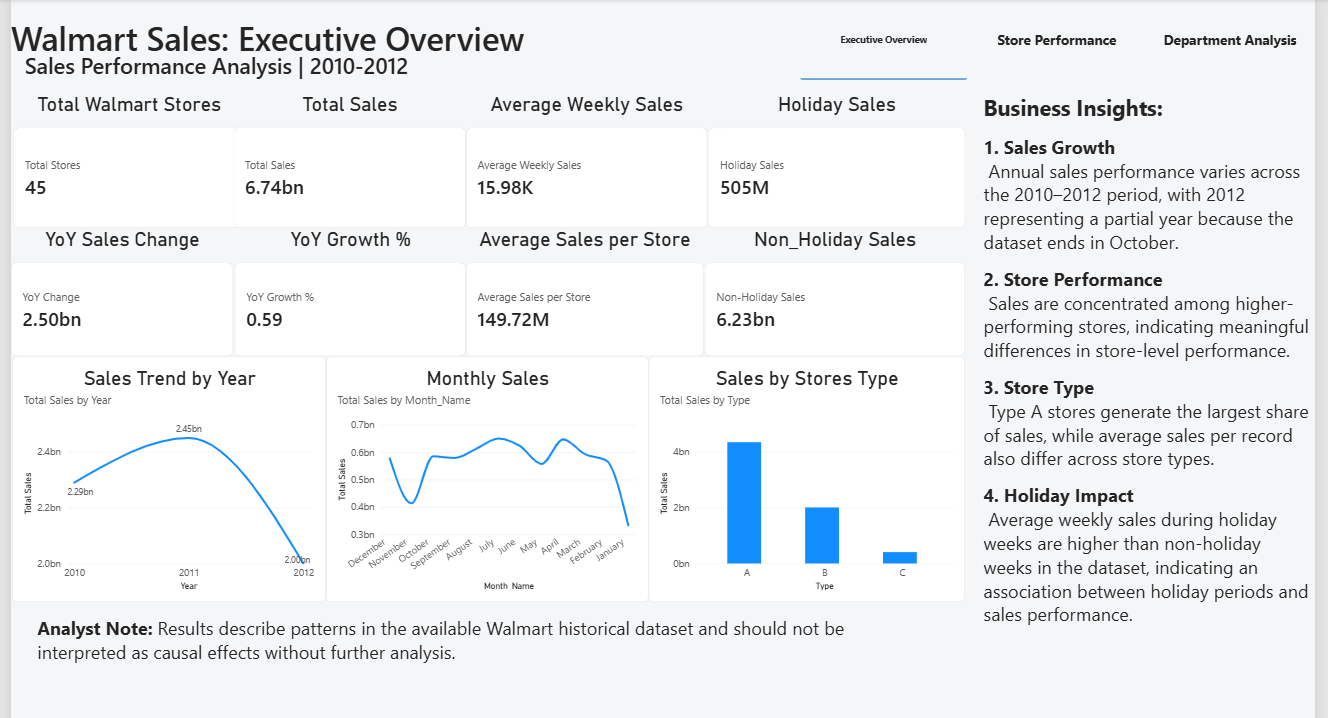

What the dashboard file says about the page in this screenshot:
{"tool":"powerbi","page":{"name":"Executive Overview","canvas":[1920,1080],"ordinal":0},"visuals":[{"type":"lineChart","title":"Sales Trend by Year","fields":{"Category":["train.Year"],"Y":["train.Total Sales"]},"box":[1.9,527.1,461.9,361.4],"z":0},{"type":"lineChart","title":"Monthly Sales","fields":{"Category":["train.Month_Name"],"Y":["train.Total Sales"]},"box":[463.8,527.1,475,361.4],"z":2000},{"type":"cardVisual","title":"Total Walmart Stores","fields":{"Data":["train.Total Stores"]},"box":[3.7,137.8,340.9,199.3],"z":3000},{"type":"cardVisual","title":"Holiday Sales","fields":{"Data":["train.Holiday Sales"]},"box":[1026.3,137.8,378.1,199.3],"z":4000},{"type":"cardVisual","title":"Non_Holiday Sales","fields":{"Data":["train.Non-Holiday Sales"]},"box":[1020.7,337.1,383.7,190],"z":5000},{"type":"clusteredColumnChart","title":"Sales by Stores Type","fields":{"Category":["stores.Type"],"Y":["train.Total Sales"]},"box":[938.8,527.1,465.7,361.4],"z":6000},{"type":"cardVisual","title":"Average Weekly Sales","fields":{"Data":["train.Average Weekly Sales"]},"box":[670.5,137.8,355.8,199.3],"z":6001},{"type":"cardVisual","title":"Total Sales","fields":{"Data":["train.Total Sales"]},"box":[327.8,137.8,342.7,199.3],"z":6002},{"type":"textbox","box":[0,6.1,849.9,83.8],"z":6003},{"type":"pageNavigator","box":[1161.4,0,758.3,119.6],"z":6004},{"type":"textbox","box":[20.2,75.5,1034.4,73.6],"z":6005},{"type":"cardVisual","title":"YoY Sales Change","fields":{"Data":["train.YoY Change"]},"box":[0,337.1,327.8,190],"z":6006},{"type":"cardVisual","title":"YoY Growth %","fields":{"Data":["train.YoY Growth %"]},"box":[329.7,337.1,340.9,190],"z":6007},{"type":"cardVisual","title":"Average Sales per Store","fields":{"Data":["train.Average Sales per Store"]},"box":[670.5,337.1,350.2,190],"z":6009},{"type":"textbox","box":[1432.4,137.8,486.1,905.2],"z":6010},{"type":"textbox","box":[39.1,888.5,1313.2,126.7],"z":6011}]}

Visuals, with their boxes on the page's 1920x1080 design canvas (x1, y1, x2, y2). These are canvas units, not pixel positions in the 1328x718 screenshot, which may show the page scaled, cropped or inside an application window:
"Sales Trend by Year" lineChart: l=2, t=527, r=464, b=888
"Monthly Sales" lineChart: l=464, t=527, r=939, b=888
"Total Walmart Stores" cardVisual: l=4, t=138, r=345, b=337
"Holiday Sales" cardVisual: l=1026, t=138, r=1404, b=337
"Non_Holiday Sales" cardVisual: l=1021, t=337, r=1404, b=527
"Sales by Stores Type" clusteredColumnChart: l=939, t=527, r=1404, b=888
"Average Weekly Sales" cardVisual: l=670, t=138, r=1026, b=337
"Total Sales" cardVisual: l=328, t=138, r=670, b=337
textbox: l=0, t=6, r=850, b=90
pageNavigator: l=1161, t=0, r=1920, b=120
textbox: l=20, t=76, r=1055, b=149
"YoY Sales Change" cardVisual: l=0, t=337, r=328, b=527
"YoY Growth %" cardVisual: l=330, t=337, r=671, b=527
"Average Sales per Store" cardVisual: l=670, t=337, r=1021, b=527
textbox: l=1432, t=138, r=1918, b=1043
textbox: l=39, t=888, r=1352, b=1015
